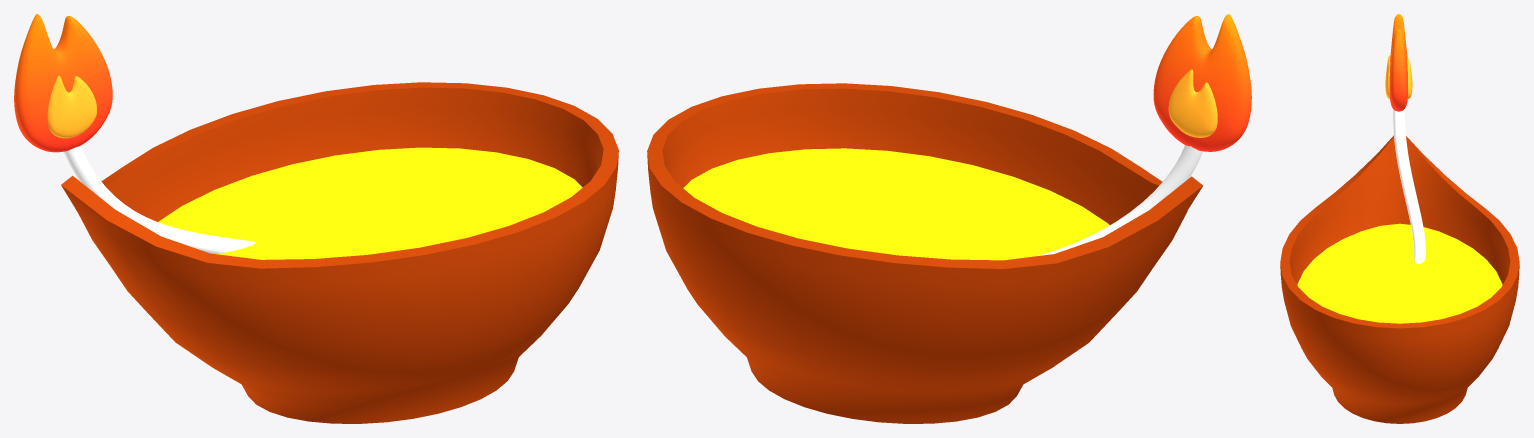
File: diya_lamp.gltf
3 views of the same model, side by side, from view 1: azimuth 30°, elevation 25°; view 2: azimuth 150°, elevation 25°; view 3: azimuth 270°, elevation 25° (orthographic). The views are drawn at different scales.
Visible parts, largest first — view 1: Sphere.531; view 2: Sphere.531; view 3: Sphere.531.
Boxes of the visible parts, box(x1,y1,x2,y2) form: Sphere.531: box(14, 14, 618, 423); Sphere.531: box(647, 14, 1251, 423); Sphere.531: box(1280, 14, 1519, 423).
Size of the model in its own units: 2.3 by 1.67 by 1.34.
1 material, 1 textured.
